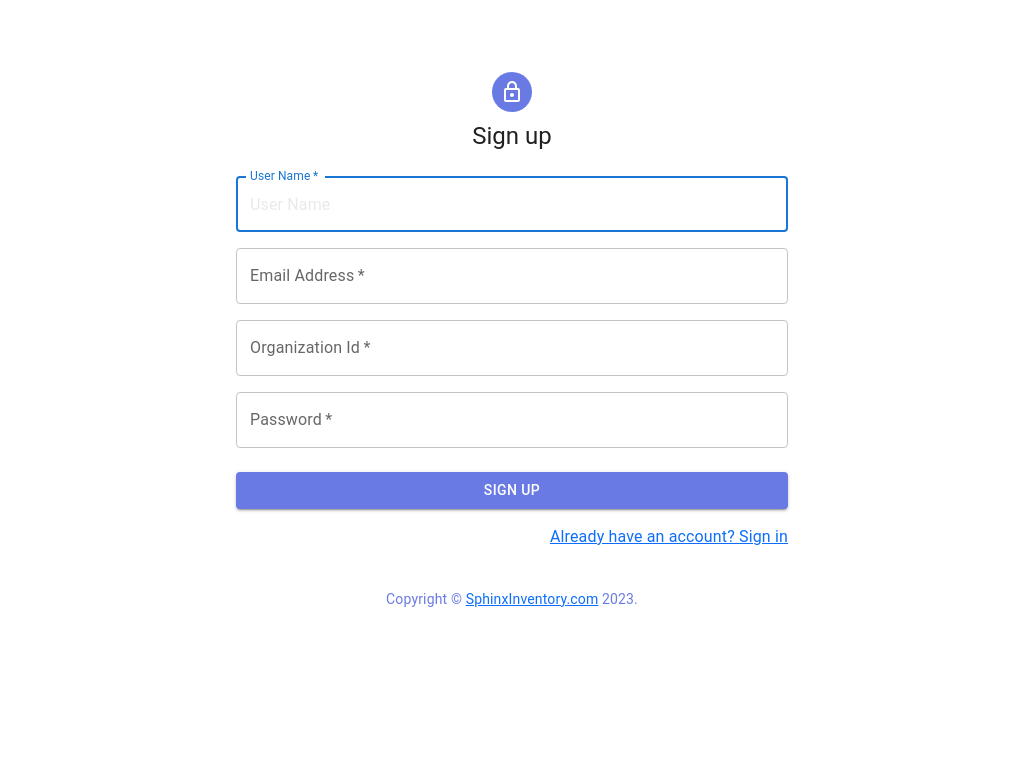
Register component › should show alert when username is not entered
Click the button "Sign Up" at (512,490), box [236,472,788,508]
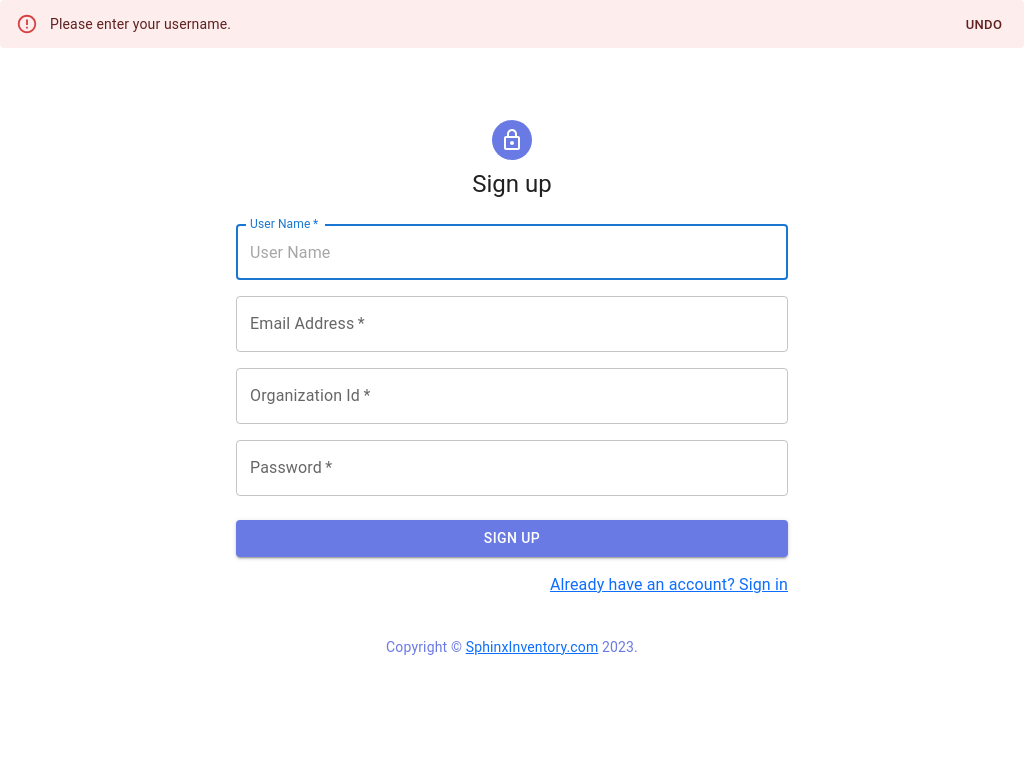
Expected: the text "Please enter your username." is shown, [50,16,231,32]
